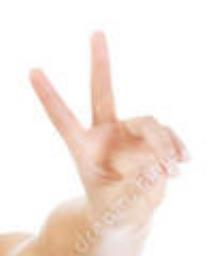front: (28, 28, 192, 227)
